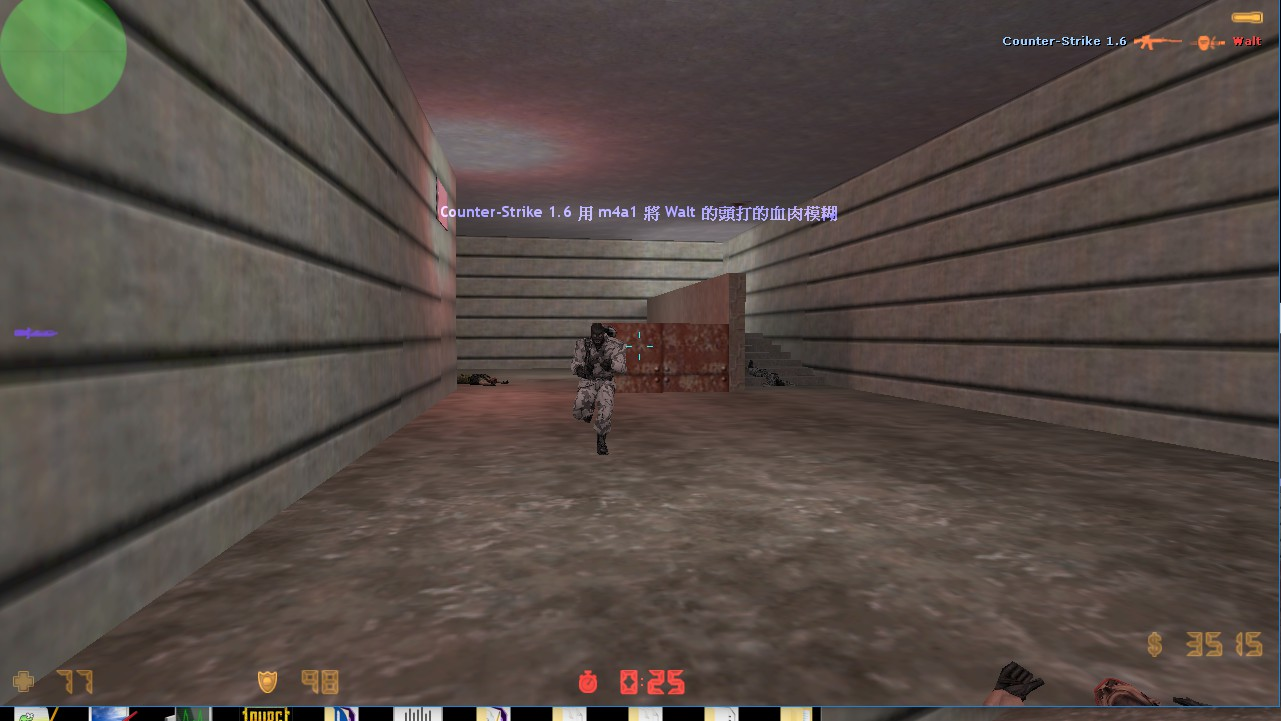person: (566, 322, 631, 459)
